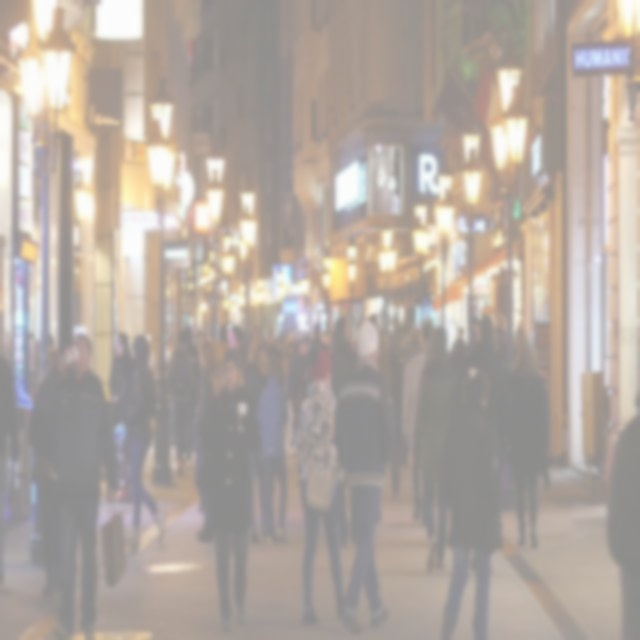pessoa: (43, 328, 121, 639), (330, 314, 402, 638), (434, 364, 506, 639), (292, 343, 356, 629), (200, 342, 260, 634), (409, 321, 462, 576), (120, 330, 170, 550), (506, 333, 552, 552), (606, 381, 639, 638), (374, 306, 406, 502), (194, 337, 224, 544), (258, 353, 290, 544), (400, 321, 428, 523), (244, 332, 270, 547), (165, 327, 198, 480), (106, 330, 136, 494), (278, 318, 304, 466), (386, 336, 405, 503), (303, 303, 354, 362), (187, 322, 203, 466), (332, 472, 356, 554), (448, 311, 480, 368), (467, 530, 500, 578), (494, 316, 521, 366), (34, 344, 59, 394), (22, 330, 44, 384), (472, 313, 498, 356), (160, 330, 176, 378), (260, 338, 278, 374), (243, 321, 276, 339), (144, 330, 156, 378), (354, 312, 376, 337), (227, 322, 245, 352), (216, 321, 227, 367), (424, 312, 436, 350), (44, 326, 58, 350)
